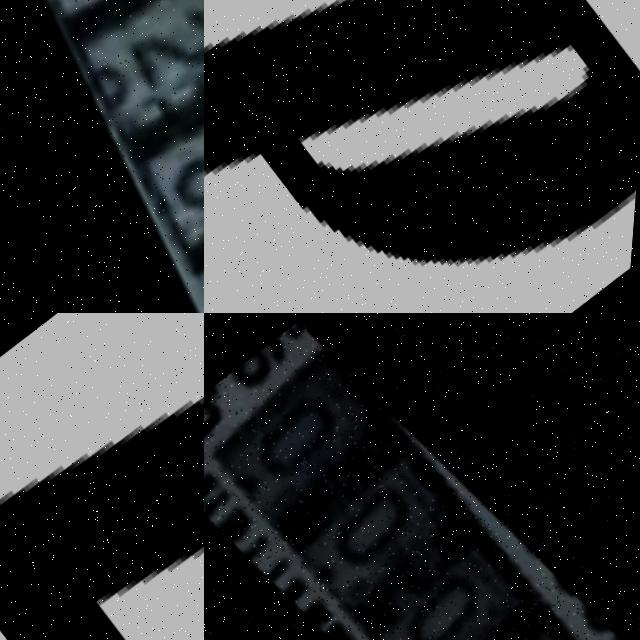0: (224, 359, 368, 498), (313, 457, 439, 579), (387, 543, 514, 640)
2: (117, 0, 204, 105)
8: (147, 94, 204, 238)
B: (0, 396, 204, 640)
P: (204, 0, 640, 260)
